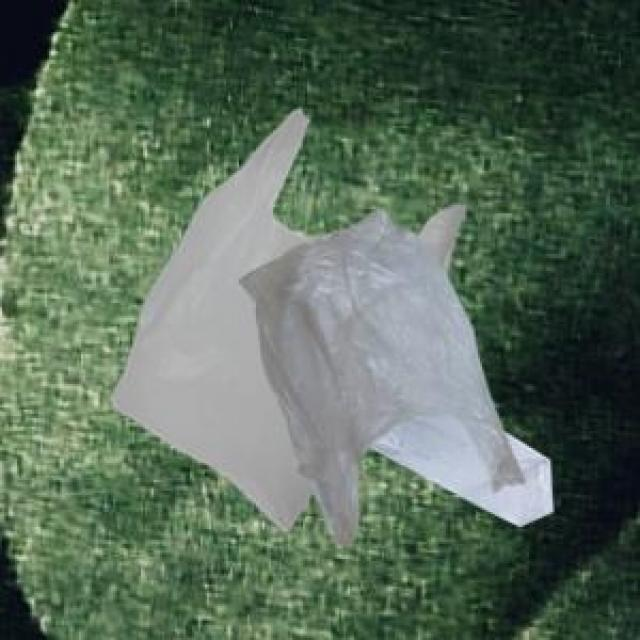waste: (105, 108, 465, 510), (239, 212, 523, 536)
